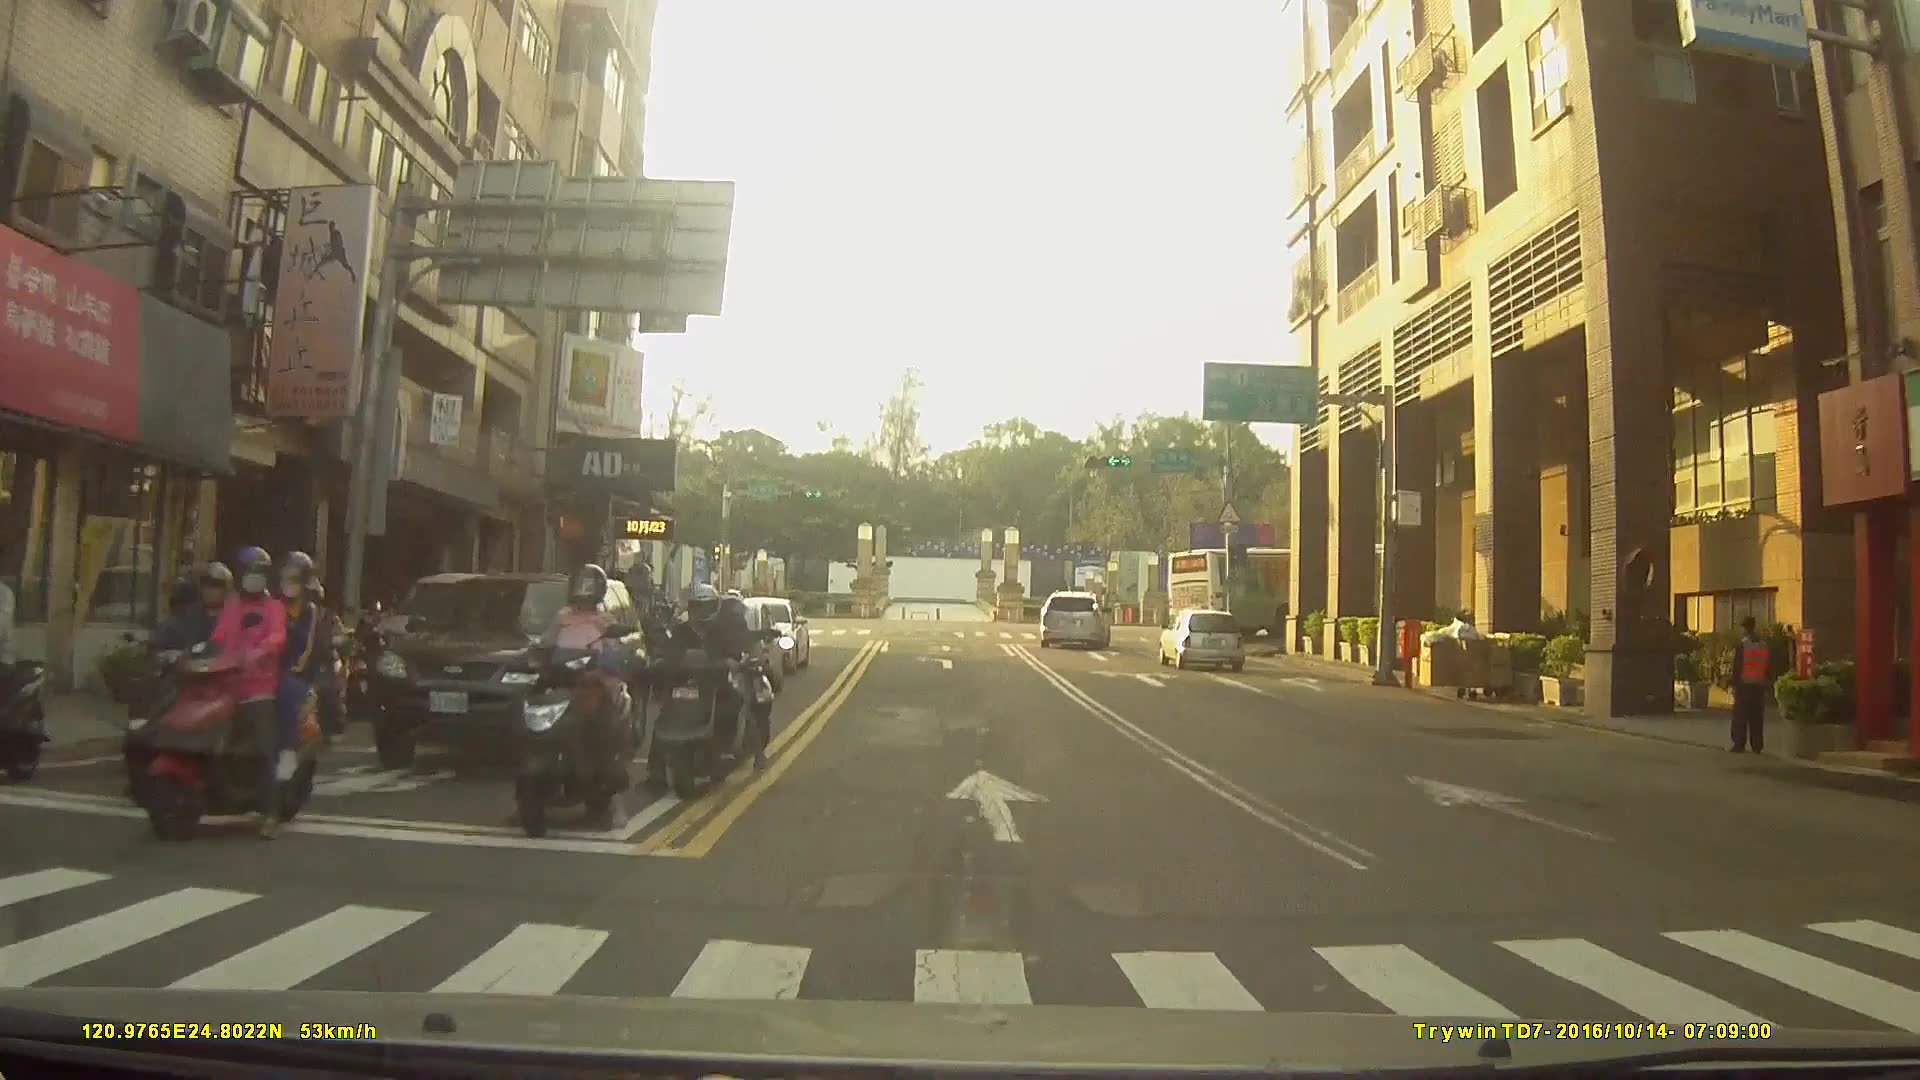pedestrian: (1718, 615, 1780, 763)
rider: (113, 537, 309, 839), (492, 556, 641, 836), (645, 583, 753, 801), (1, 559, 45, 780)
vehicle: (367, 569, 648, 763), (1165, 540, 1414, 633), (1155, 604, 1246, 668), (1038, 589, 1114, 647)
